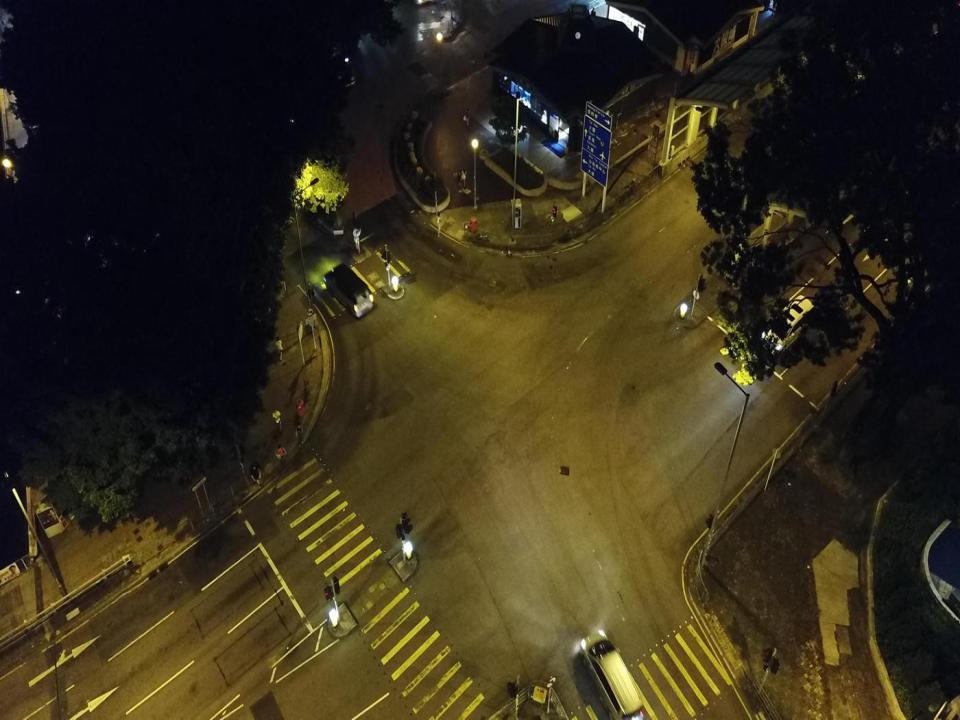car: (760, 294, 815, 356), (326, 46, 356, 92)
van: (580, 629, 644, 719), (323, 262, 374, 319)
